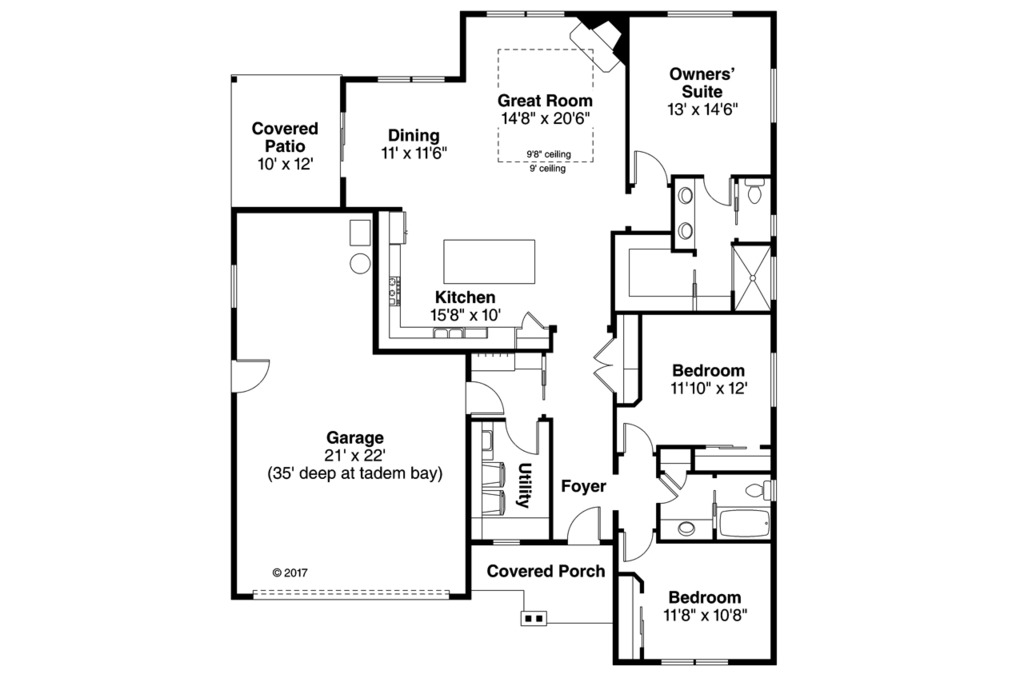door: (458, 371, 512, 424), (226, 349, 272, 399), (590, 335, 620, 400), (622, 144, 668, 186), (560, 503, 601, 549), (621, 522, 655, 564), (505, 418, 543, 454), (619, 422, 654, 459), (699, 172, 730, 211), (513, 306, 544, 332), (663, 460, 691, 484), (657, 477, 677, 506)
large_sink: (742, 472, 785, 501), (739, 173, 769, 212)
small_sink: (669, 171, 697, 252), (659, 515, 716, 541)
window: (374, 67, 446, 90), (761, 64, 784, 133), (766, 213, 782, 303), (486, 7, 572, 23), (658, 655, 725, 670), (762, 349, 778, 406), (666, 7, 734, 20), (490, 530, 525, 550)
